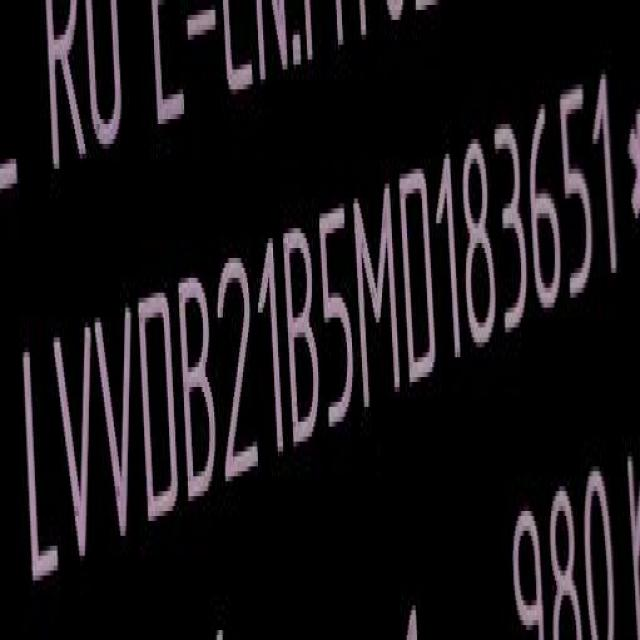1: (260, 239, 287, 469), (596, 70, 622, 288), (437, 152, 461, 368)
2: (220, 256, 258, 485)
3: (494, 112, 531, 348)
5: (320, 198, 360, 432), (561, 72, 594, 302)
6: (529, 94, 563, 319)
8: (460, 136, 495, 355)
B: (180, 270, 220, 498), (287, 221, 324, 454)
D: (136, 286, 177, 525), (400, 167, 437, 390)
L: (18, 339, 57, 590)
M: (359, 180, 405, 414)
V: (52, 318, 95, 571), (97, 302, 138, 550)
